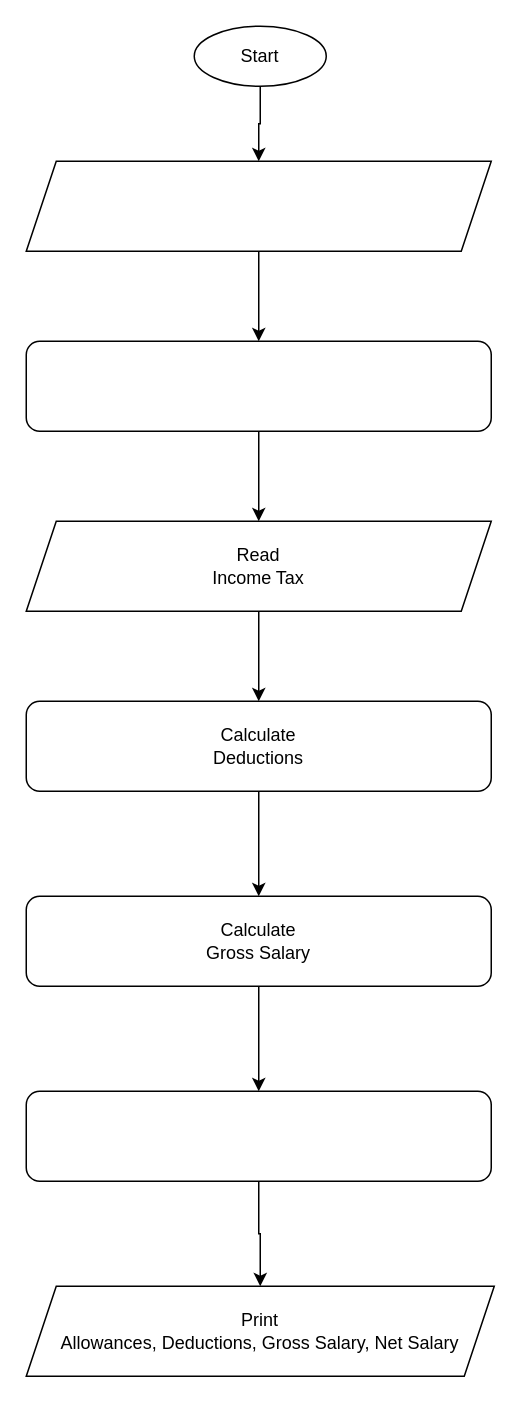
Image size: 521x1403. Some labels were removed from this diagram. Each missing label, with the centre of its shape:
"Calculate Allowances" belongs at pixel 258 385.
"Calculate Net Salary" belongs at pixel 258 1135.
"Read Basic Salary" belongs at pixel 258 205.
